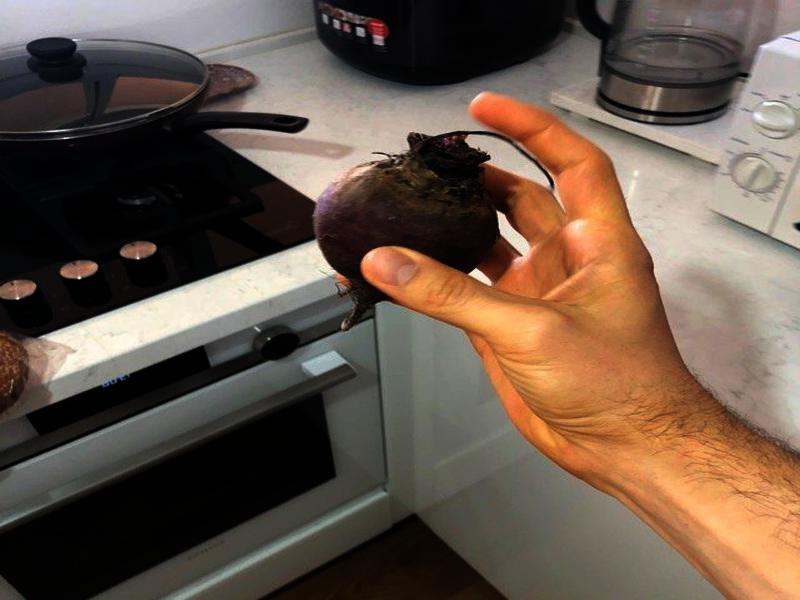Beet: (314, 131, 550, 330)
